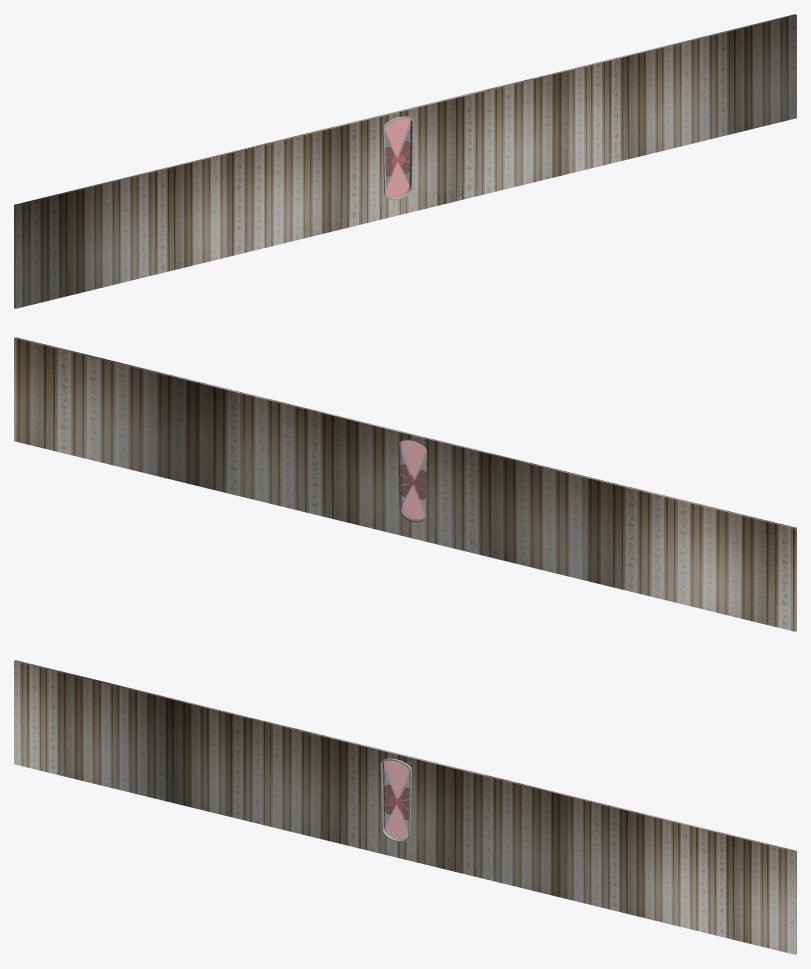
File: Fancy window.fbx
The picture shows the model from 3 angles, top to bottom: view 1: azimuth 30°, elevation 25°; view 2: azimuth 150°, elevation 25°; view 3: azimuth 330°, elevation 25°; orthographic projection.
Visible parts, largest first — view 1: pasted__polySurface379, pCylinder136, pasted__pCylinder108; view 2: pasted__polySurface379, pCylinder136; view 3: pasted__polySurface379, pCylinder136, pasted__pCylinder108.
Part boxes in pixels (<box>): pasted__polySurface379: <box>14,14,796,308</box>; pCylinder136: <box>385,118,411,197</box>; pasted__pCylinder108: <box>382,116,414,200</box>; pasted__polySurface379: <box>14,337,796,631</box>; pCylinder136: <box>398,440,426,522</box>; pasted__polySurface379: <box>14,660,796,954</box>; pCylinder136: <box>382,760,409,839</box>; pasted__pCylinder108: <box>380,758,411,842</box>.
Size of the model in its own units: 6166 by 777 by 37.42.
